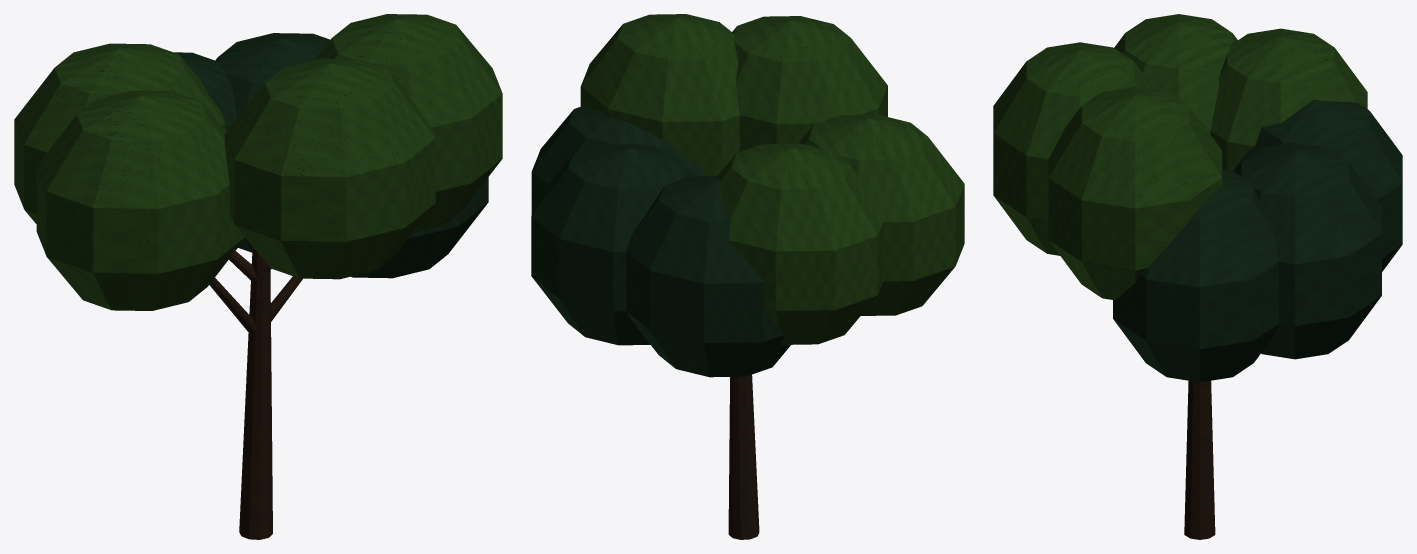
File: PROP-A4BC1013C7B6_lod1.glb
3 renders of one model, left to right at view 1: azimuth 30°, elevation 25°; view 2: azimuth 150°, elevation 25°; view 3: azimuth 270°, elevation 25°, orthographic. The views are drawn at different scales.
Visible parts, largest first — view 1: leaf_crown.049, leaf_crown.048, trunk.046, branch.028; view 2: leaf_crown.049, leaf_crown.048, trunk.046; view 3: leaf_crown.049, leaf_crown.048, trunk.046.
Boxes of the visible parts, x1,y1,x2,y2 form: leaf_crown.049: (14,14,502,310); leaf_crown.048: (174,33,488,278); trunk.046: (239,247,272,539); branch.028: (209,251,302,335); leaf_crown.049: (580,14,964,344); leaf_crown.048: (531,106,790,377); trunk.046: (728,374,759,539); leaf_crown.049: (993,14,1367,300); leaf_crown.048: (1113,99,1402,382); trunk.046: (1184,380,1215,539).
Bounding box in the file's own units: 7.19 × 7.96 × 6.05.
Materials: 3 (3 with a texture image).
